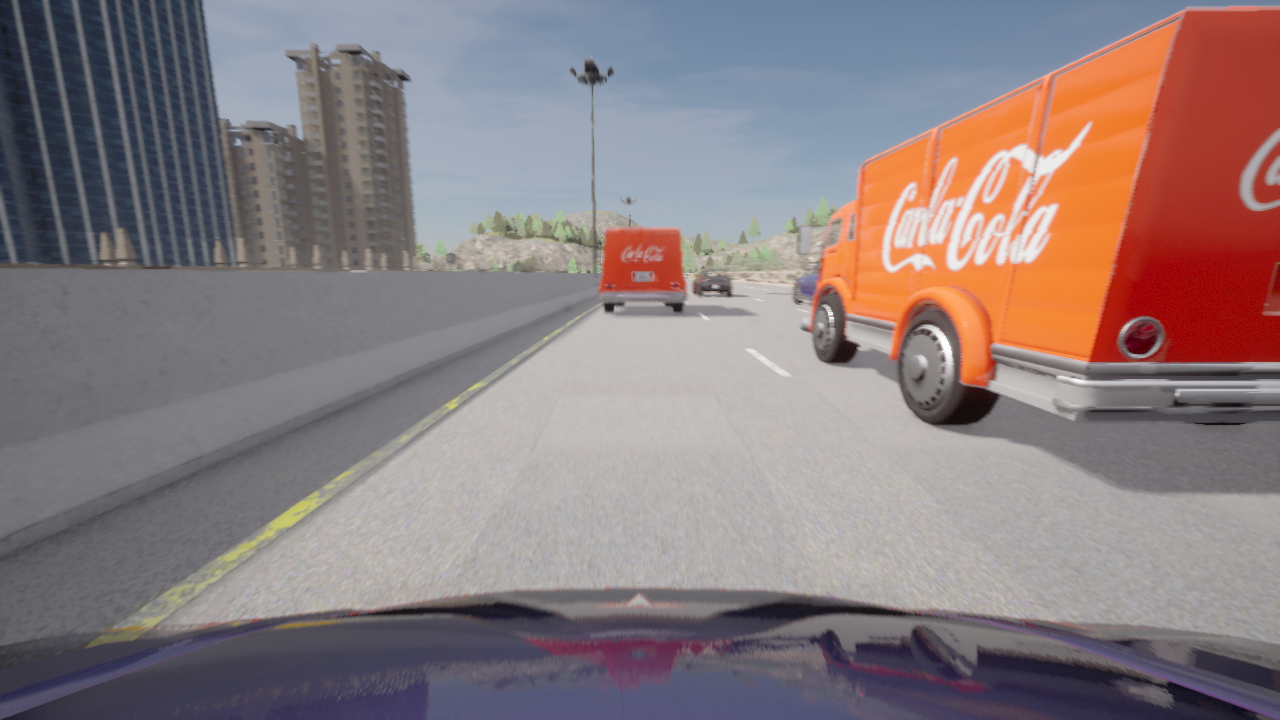cyclist: (796, 7, 1279, 425), (0, 588, 1279, 719), (599, 229, 686, 312), (693, 268, 731, 296), (792, 263, 818, 303)
